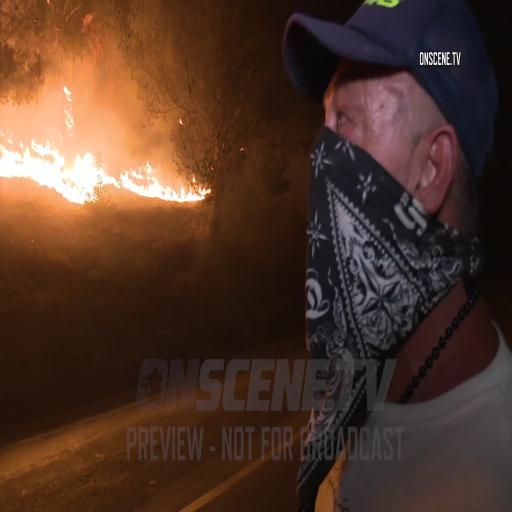fire: (0, 124, 119, 212)
